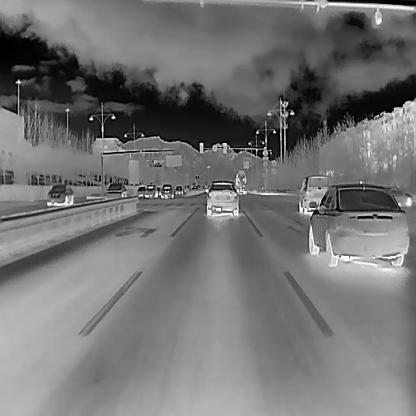car: (308, 182, 410, 266), (298, 174, 329, 214), (204, 180, 238, 216), (45, 184, 73, 206), (385, 186, 412, 206), (104, 182, 127, 197), (159, 183, 173, 199), (145, 184, 157, 196), (136, 186, 145, 196), (174, 184, 182, 194), (190, 184, 198, 192), (183, 184, 189, 192)
truck: (233, 169, 246, 194)
